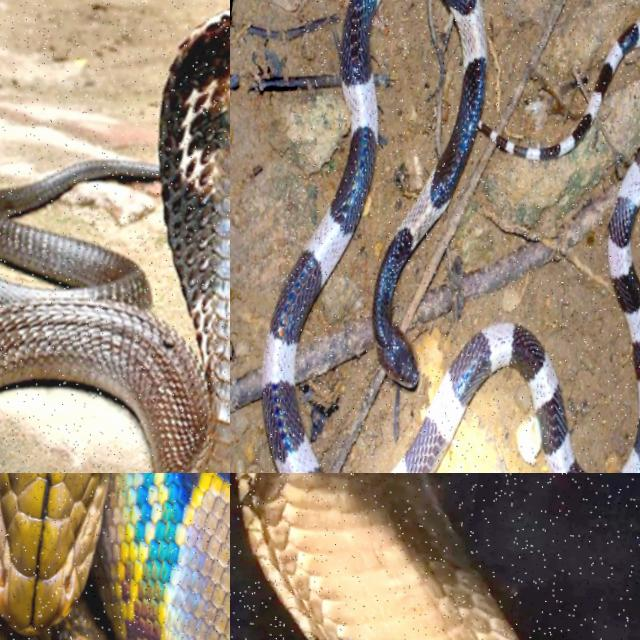Bungarus candidus: (373, 0, 639, 384)
Malayopython reticulatus: (0, 473, 229, 639)
Ophiophagus hannah: (0, 9, 229, 472), (238, 473, 516, 639)
snake: (0, 9, 229, 472), (373, 0, 639, 384), (238, 473, 516, 639), (0, 473, 229, 639)
